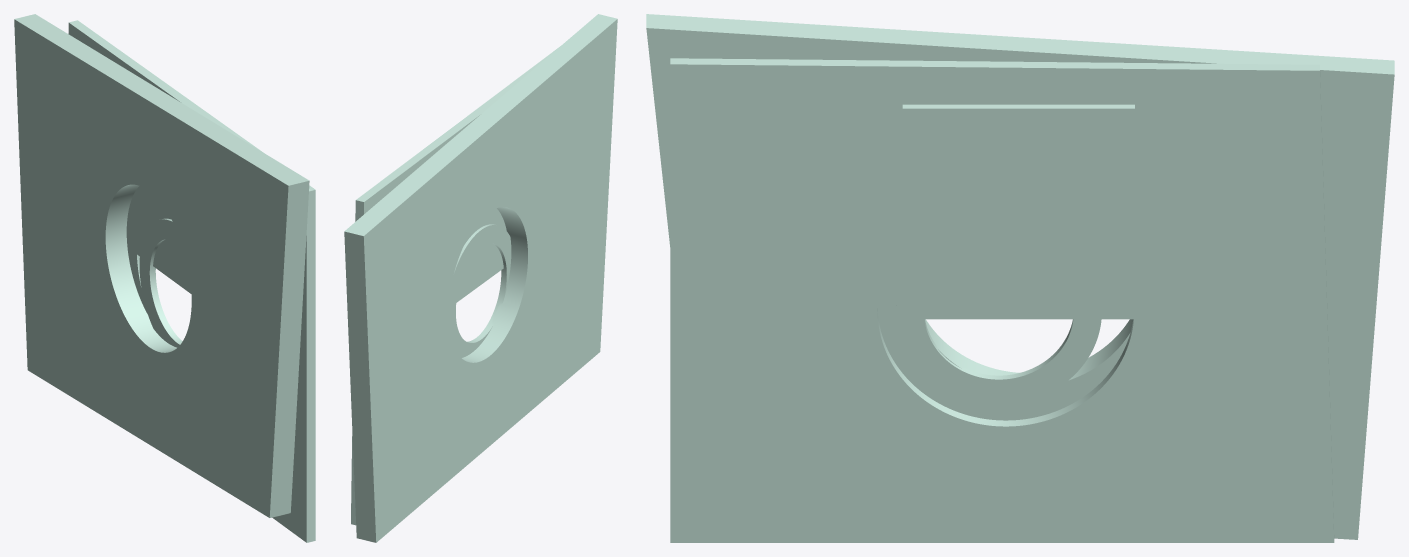
3 renders of one model, left to right at view 1: azimuth 30°, elevation 25°; view 2: azimuth 150°, elevation 25°; view 3: azimuth 270°, elevation 25°, orthographic. The views are drawn at different scales.
Visible parts, largest first — view 1: Renderer Node; view 2: Renderer Node; view 3: Renderer Node.
Boxes of the visible parts, x1,y1,x2,y2 form: Renderer Node: (14, 14, 315, 542); Renderer Node: (344, 14, 617, 542); Renderer Node: (646, 14, 1394, 542).
Size of the model in its own units: 0.1094 by 0.9308 by 1.23.
